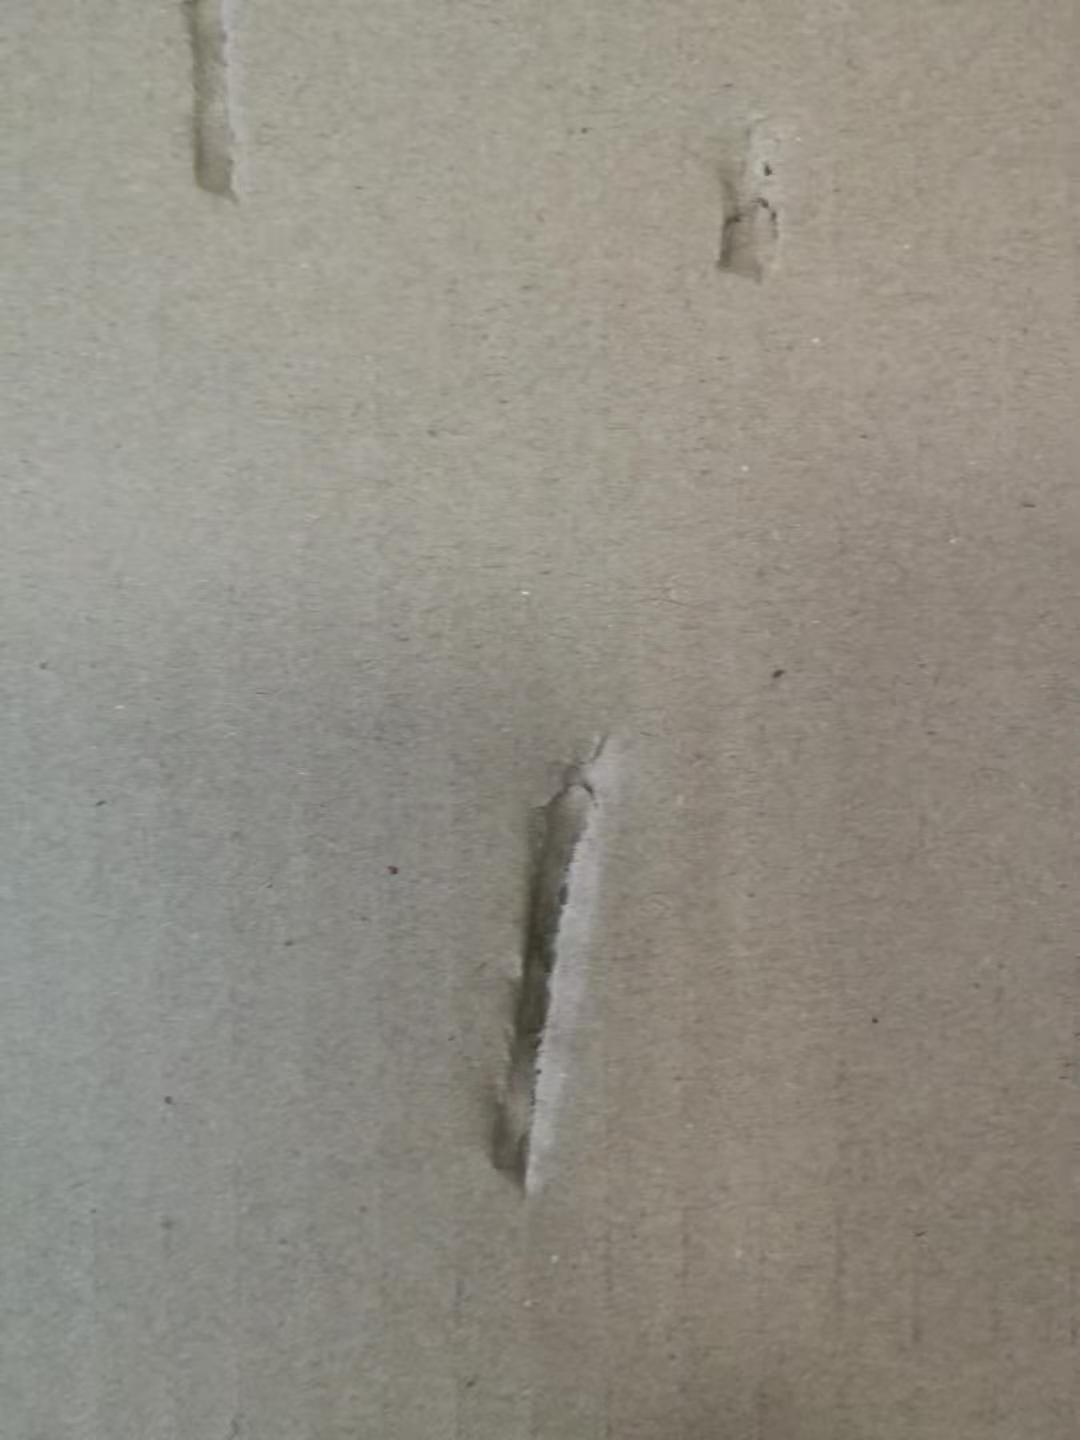defect: (440, 708, 660, 1221), (152, 1, 277, 227), (686, 96, 815, 305)
